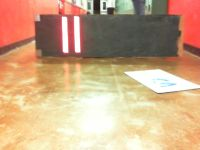switch: (61, 16, 69, 53), (74, 16, 81, 53)
